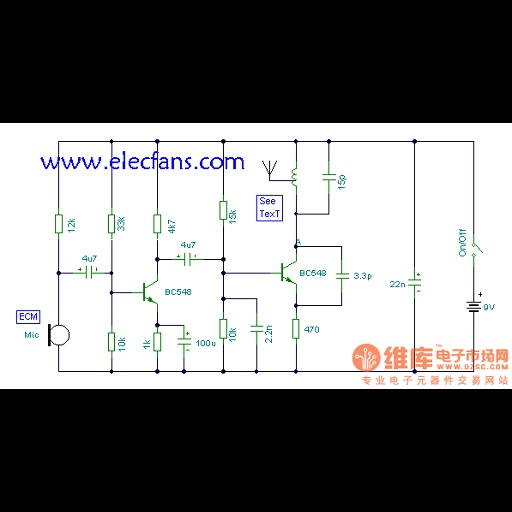battery: (465, 289, 483, 314)
capacitor: (332, 268, 350, 282), (318, 171, 337, 183), (249, 322, 264, 334)
firstresistance: (51, 210, 65, 237), (149, 213, 164, 237), (214, 197, 228, 222), (287, 318, 301, 343), (215, 316, 228, 342), (104, 328, 116, 356), (151, 331, 164, 355), (104, 213, 116, 237)
npn: (275, 257, 299, 288), (136, 278, 161, 307)
